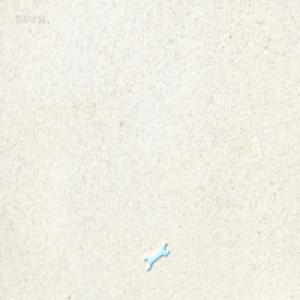Wrench: (143, 241, 168, 269)
